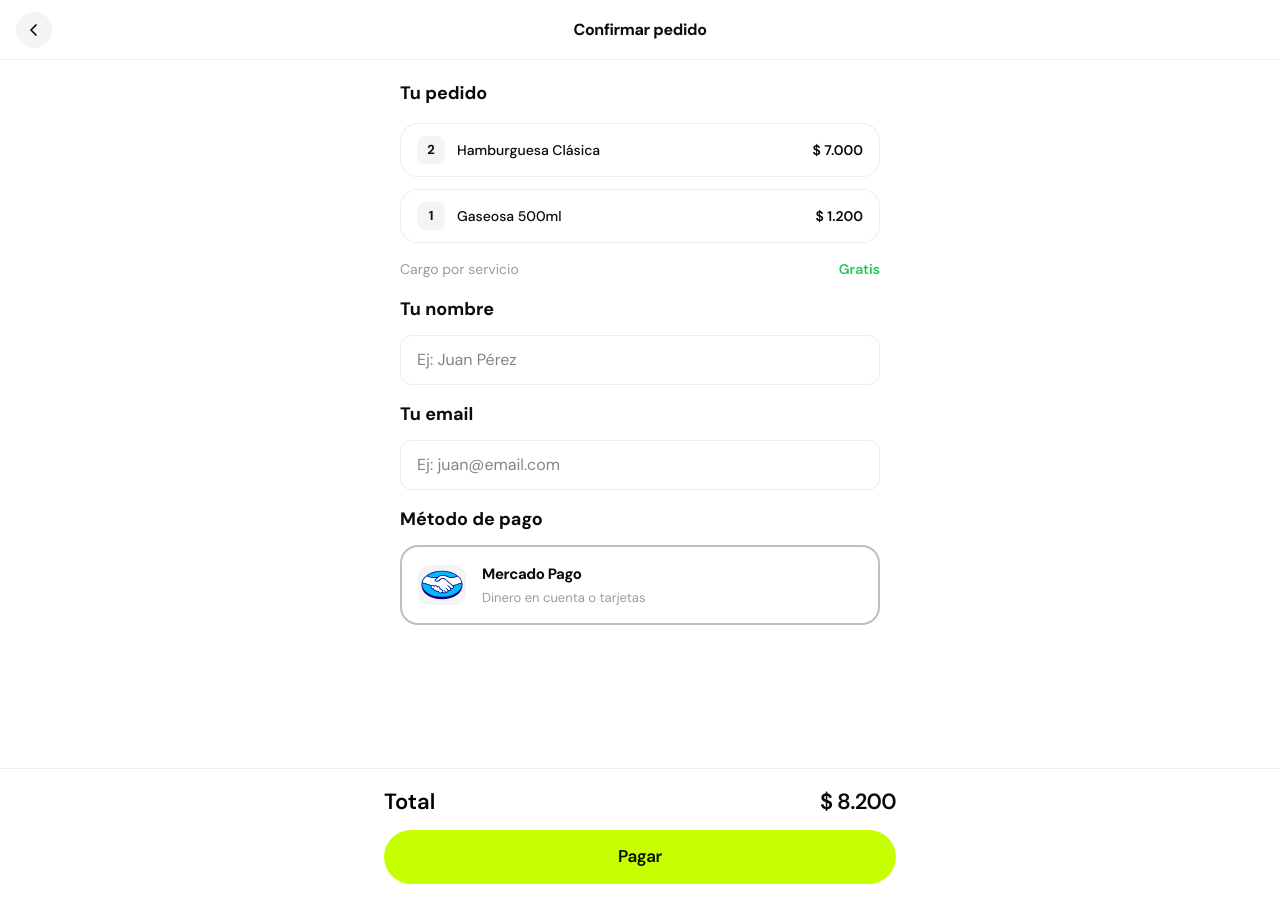
Test: CheckoutView — con items › muestra error si se confirma sin nombre
Click the button "Pagar": (640,857) [384, 830, 896, 884]
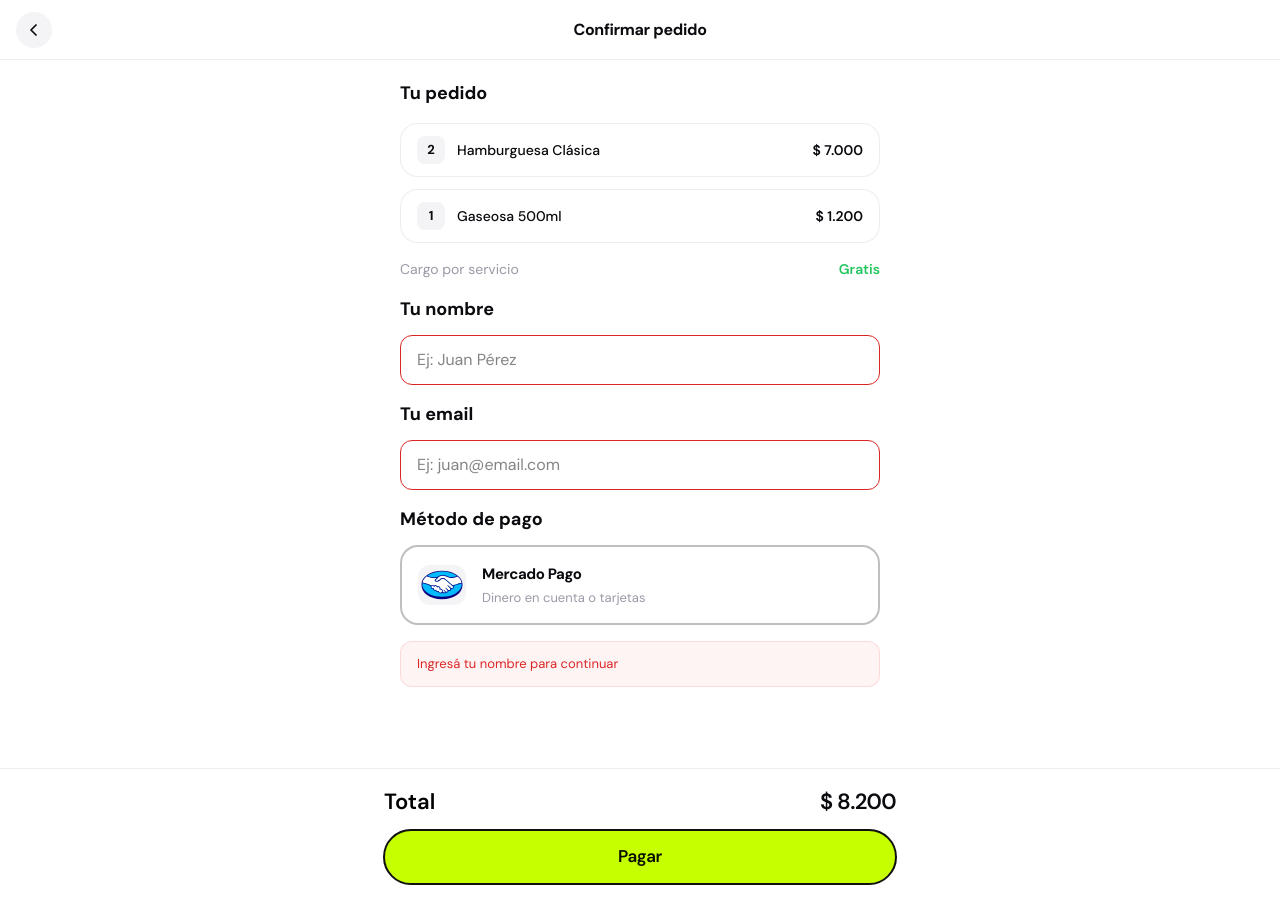
Now the text "Ingresá tu nombre para continuar" is shown, box [400, 641, 880, 686]
